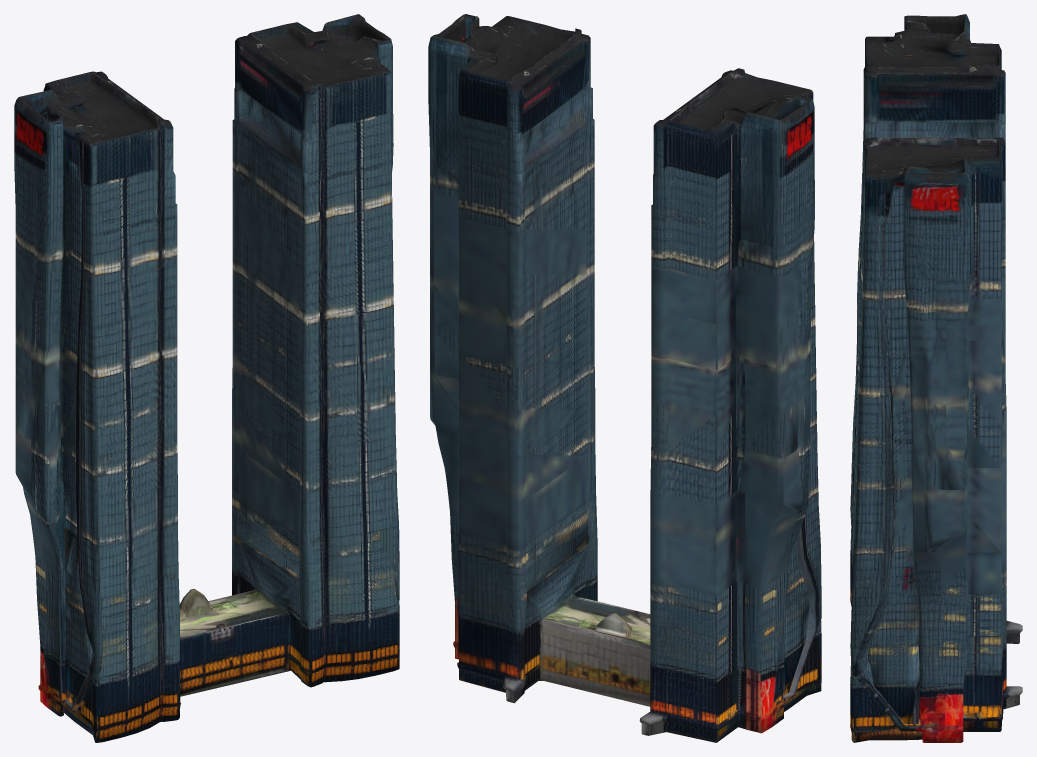
The model's file is roppongi_hills.glb.
The picture shows the model from 3 angles, left to right: view 1: azimuth 30°, elevation 25°; view 2: azimuth 150°, elevation 25°; view 3: azimuth 270°, elevation 25°; orthographic projection. The views are drawn at different scales.
Bounding box in the file's own units: 1.16 × 1.91 × 0.5127.
Materials: 1 (1 with a texture image).
